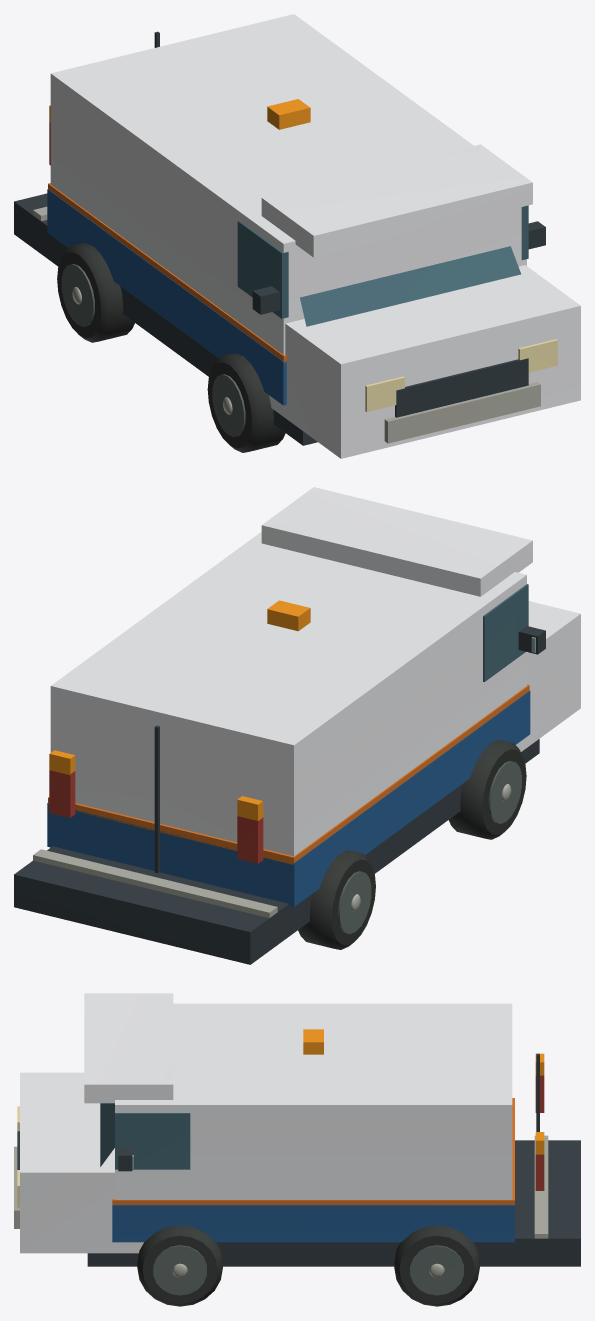
File: van.glb
The picture shows the model from 3 angles, top to bottom: view 1: azimuth 30°, elevation 25°; view 2: azimuth 150°, elevation 25°; view 3: azimuth 270°, elevation 25°; orthographic projection. The views are drawn at different scales.
Visible parts, largest first — view 1: City Dispatch delivery van · Van white, City Dispatch delivery van · Car glass, City Dispatch delivery van · Van dark, City Dispatch delivery van · Van blue, City Dispatch delivery van · Tire, City Dispatch delivery van · Alloy, City Dispatch delivery van · Wheel dark, City Dispatch delivery van · Headlight, City Dispatch delivery van · Van orange, City Dispatch delivery van · Turn signal; view 2: City Dispatch delivery van · Van white, City Dispatch delivery van · Van dark, City Dispatch delivery van · Van blue, City Dispatch delivery van · Tire, City Dispatch delivery van · Alloy, City Dispatch delivery van · Van orange, City Dispatch delivery van · Wheel dark, City Dispatch delivery van · Car glass, City Dispatch delivery van · Brake, City Dispatch delivery van · Turn signal; view 3: City Dispatch delivery van · Van white, City Dispatch delivery van · Van dark, City Dispatch delivery van · Van blue, City Dispatch delivery van · Tire, City Dispatch delivery van · Car glass, City Dispatch delivery van · Wheel dark, City Dispatch delivery van · Van orange, City Dispatch delivery van · Alloy, City Dispatch delivery van · Turn signal, City Dispatch delivery van · Brake.
Part boxes in pixels (<box>): City Dispatch delivery van · Van white: <box>50,14,580,458</box>; City Dispatch delivery van · Car glass: <box>237,205,528,326</box>; City Dispatch delivery van · Van dark: <box>14,31,545,445</box>; City Dispatch delivery van · Van blue: <box>47,189,286,405</box>; City Dispatch delivery van · Tire: <box>57,243,285,452</box>; City Dispatch delivery van · Alloy: <box>33,206,540,443</box>; City Dispatch delivery van · Wheel dark: <box>61,264,245,436</box>; City Dispatch delivery van · Headlight: <box>365,339,557,411</box>; City Dispatch delivery van · Van orange: <box>48,183,286,362</box>; City Dispatch delivery van · Turn signal: <box>49,99,310,129</box>; City Dispatch delivery van · Van white: <box>50,487,580,856</box>; City Dispatch delivery van · Van dark: <box>14,626,545,964</box>; City Dispatch delivery van · Van blue: <box>47,690,530,906</box>; City Dispatch delivery van · Tire: <box>298,740,526,949</box>; City Dispatch delivery van · Alloy: <box>33,784,511,917</box>; City Dispatch delivery van · Van orange: <box>48,684,529,864</box>; City Dispatch delivery van · Wheel dark: <box>338,761,521,933</box>; City Dispatch delivery van · Car glass: <box>483,584,528,681</box>; City Dispatch delivery van · Brake: <box>49,770,263,863</box>; City Dispatch delivery van · Turn signal: <box>49,600,310,820</box>; City Dispatch delivery van · Van white: <box>20,993,512,1253</box>; City Dispatch delivery van · Van dark: <box>17,1053,580,1266</box>; City Dispatch delivery van · Van blue: <box>112,1205,514,1242</box>; City Dispatch delivery van · Tire: <box>137,1225,479,1306</box>; City Dispatch delivery van · Car glass: <box>100,1103,190,1169</box>; City Dispatch delivery van · Wheel dark: <box>153,1245,463,1295</box>; City Dispatch delivery van · Van orange: <box>112,1098,514,1204</box>; City Dispatch delivery van · Alloy: <box>14,1135,548,1277</box>; City Dispatch delivery van · Turn signal: <box>303,1029,544,1154</box>; City Dispatch delivery van · Brake: <box>535,1075,544,1190</box>.
Bounding box in the file's own units: 1.64 × 1.39 × 3.31.
